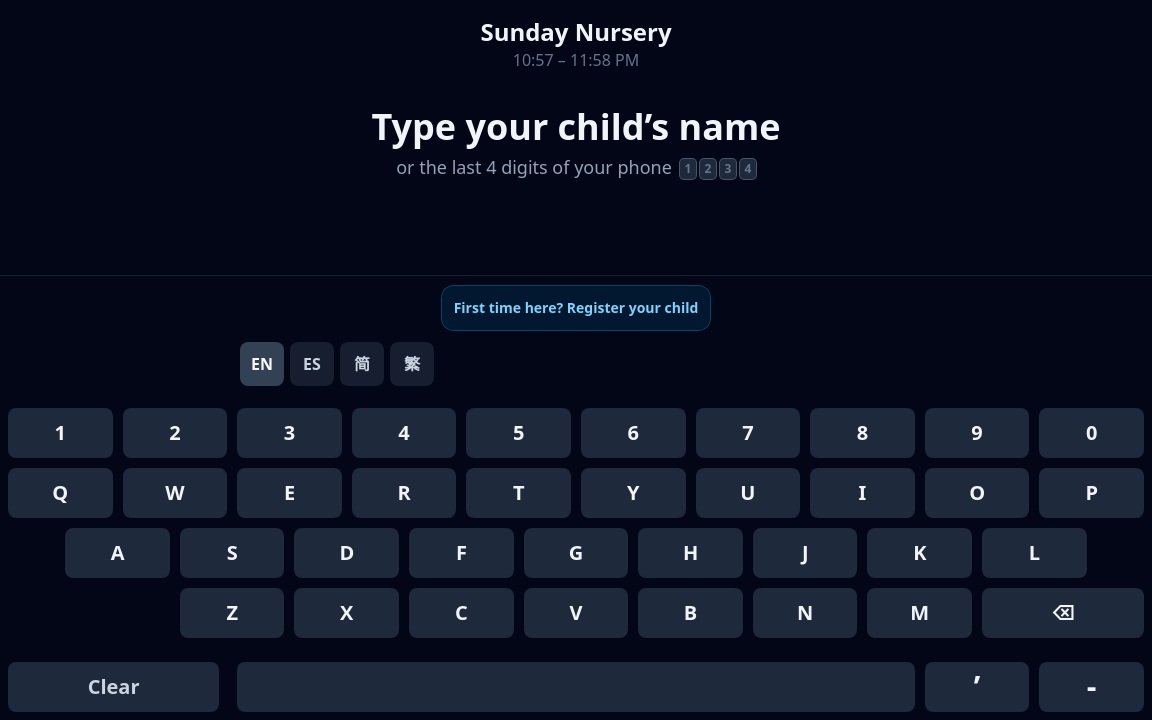
Test: the silent sweep for somebody the cached roster does not hold › shows the half of the answer that landed
This screenshot has width=1152, height=720.
Press the mouse on the button "G" at (576, 553), box [524,528,628,578]
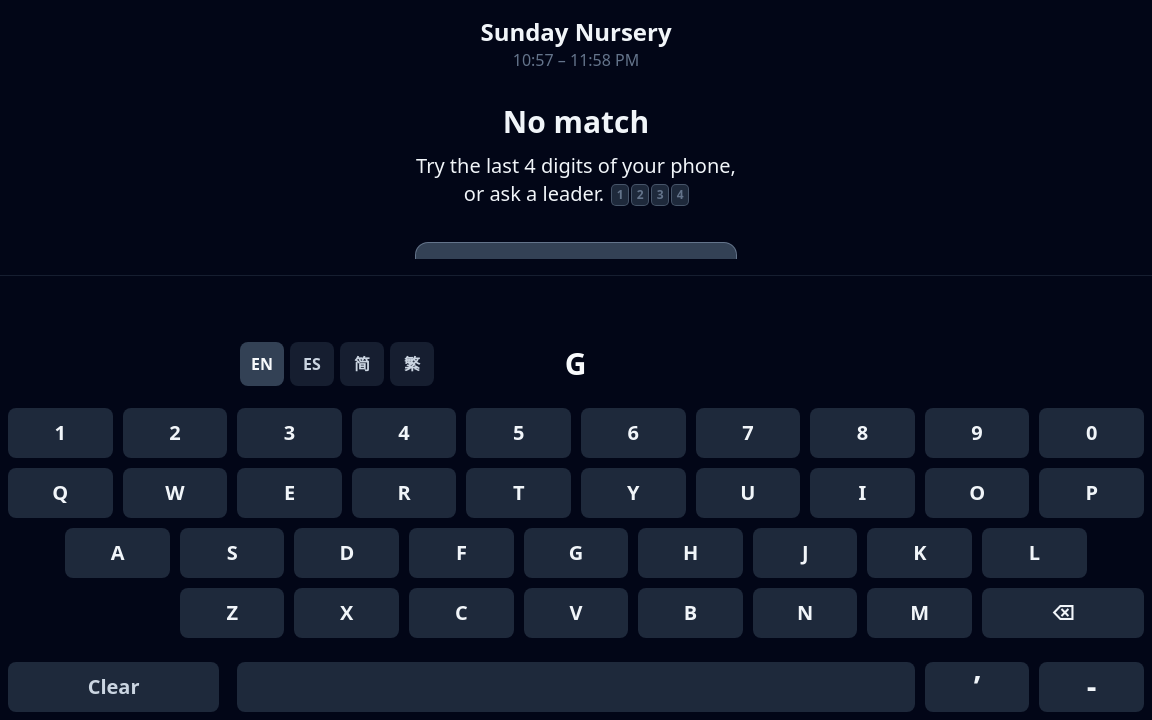
Press the mouse on the button "R" at (404, 493), box [352,468,456,518]
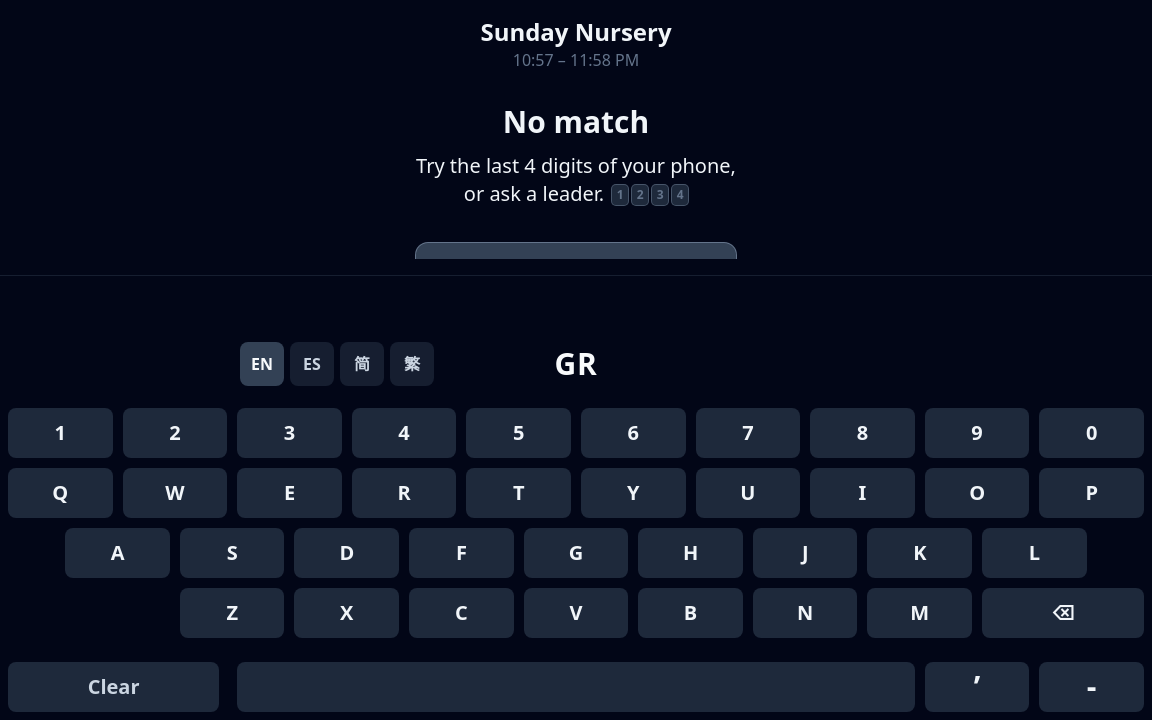
Press the mouse on the button "A" at (118, 553), box [65,528,170,578]
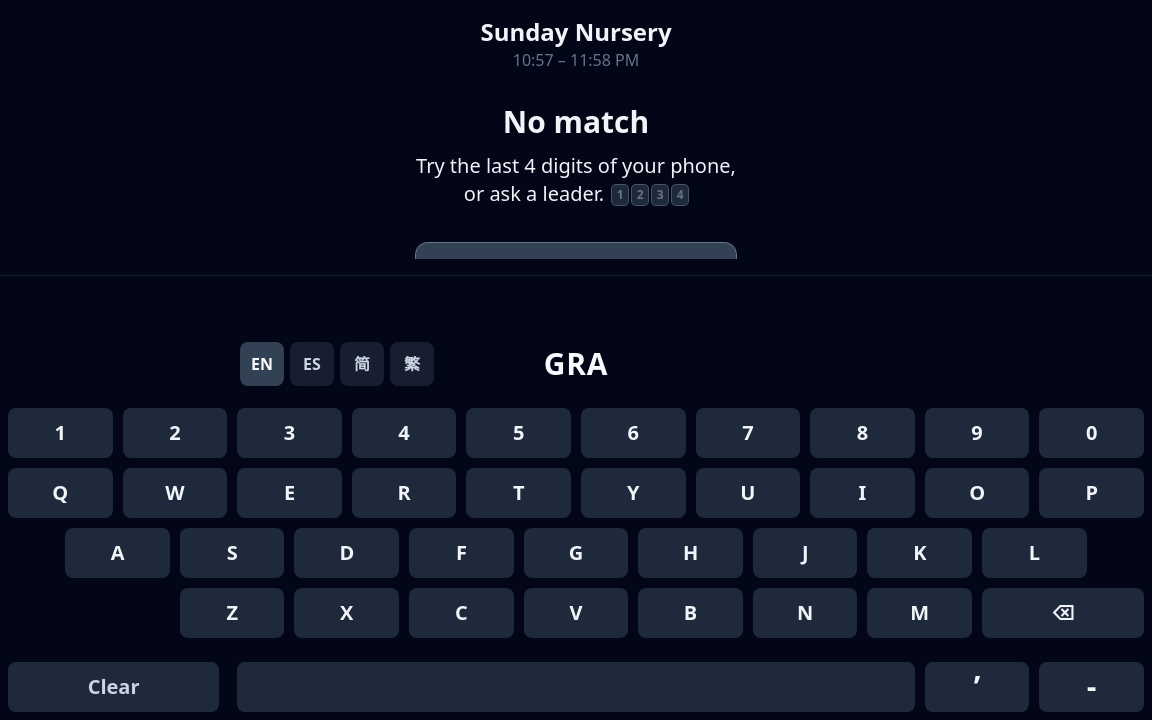
Press the mouse on the button "C" at (461, 613), box [409,588,514,638]
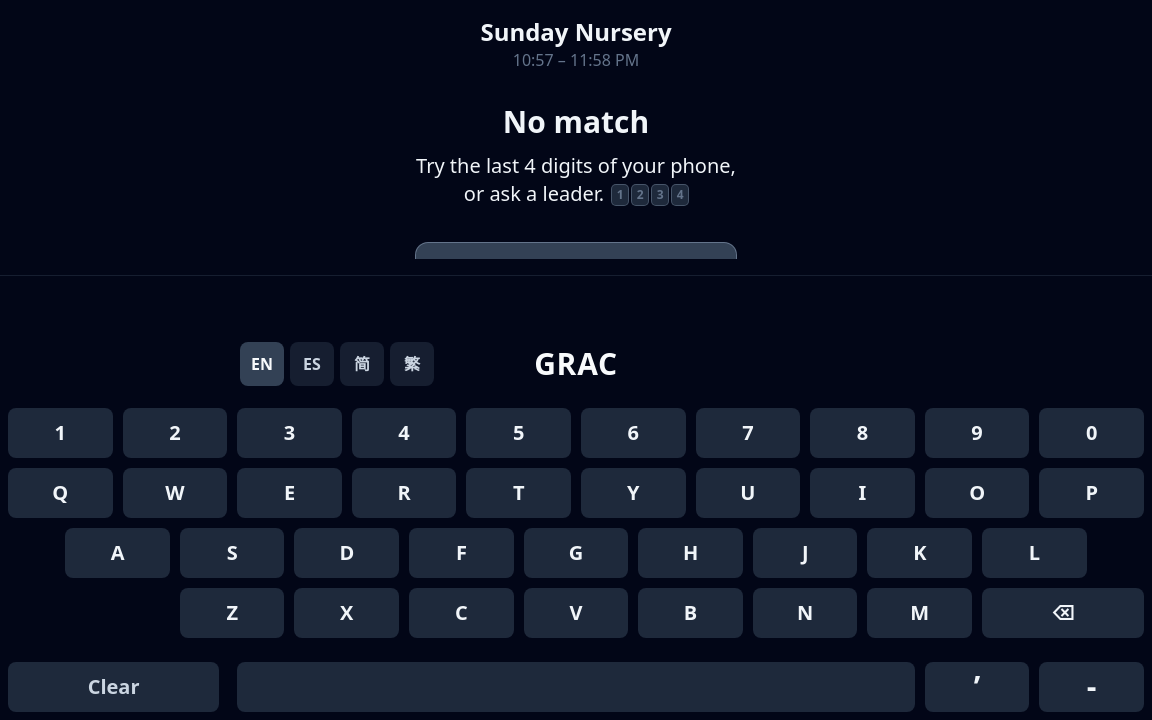
Press the mouse on the button "E" at (290, 493), box [237,468,342,518]
Wait 2000 ms
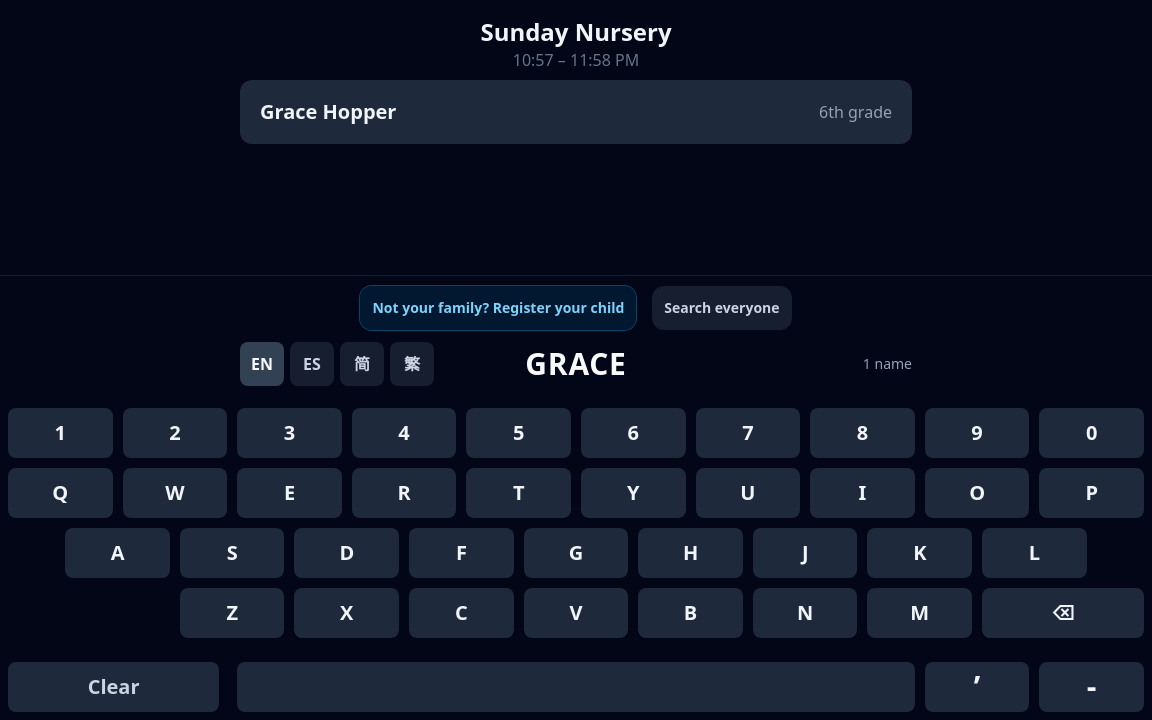
Check: the text "Grace Hopper" is shown, box [260,98,396,126]
